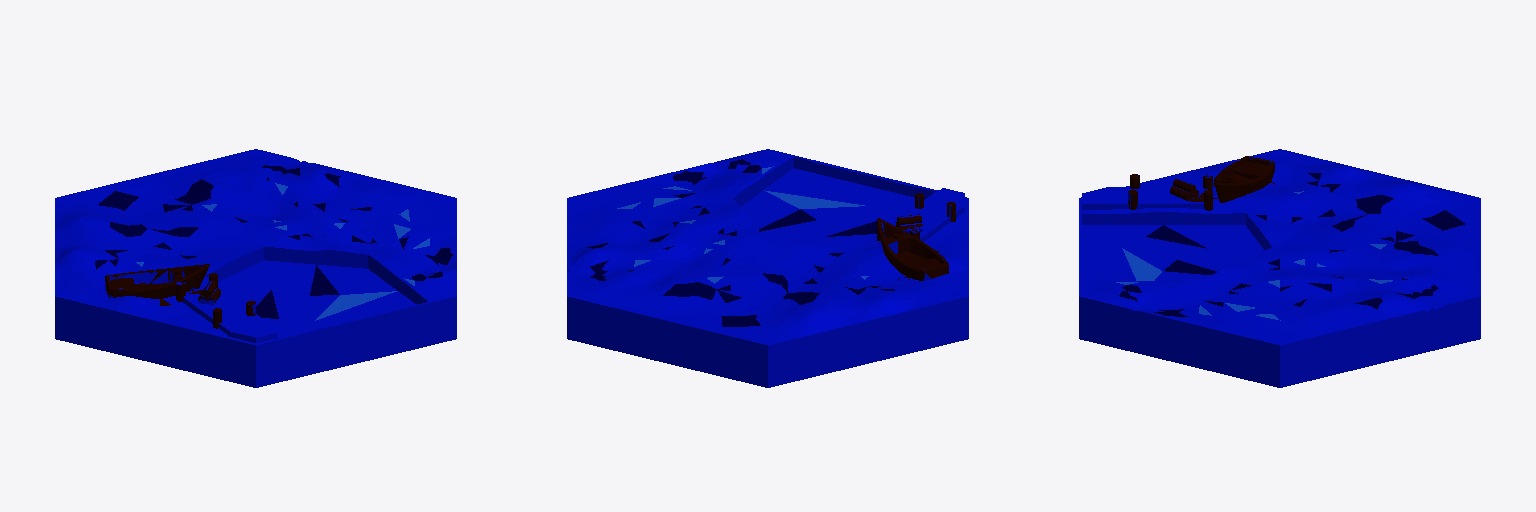
Rendered from hafen.obj.
The picture shows the model from 3 angles: view 1: azimuth 30°, elevation 25°; view 2: azimuth 150°, elevation 25°; view 3: azimuth 270°, elevation 25°; orthographic projection.
Parts seen in each view (by area): view 1: hafen_v2; view 2: hafen_v2; view 3: hafen_v2.
Part boxes in pixels (x1,y1,x2,y2): hafen_v2: (55,149,456,387); hafen_v2: (567,149,968,387); hafen_v2: (1079,149,1480,387).
Bounding box in the file's own units: 73.9 × 11.9 × 64.